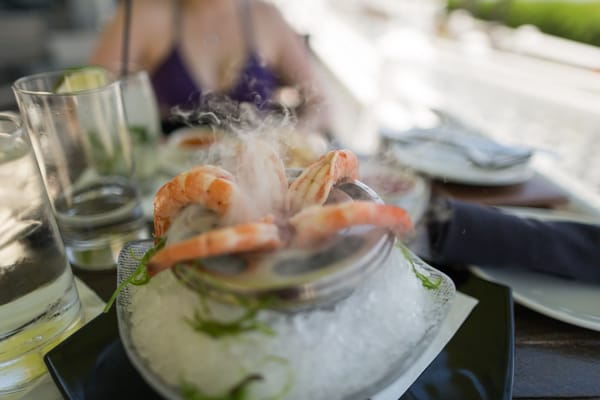pizza: (13, 66, 147, 271), (0, 111, 84, 393)
